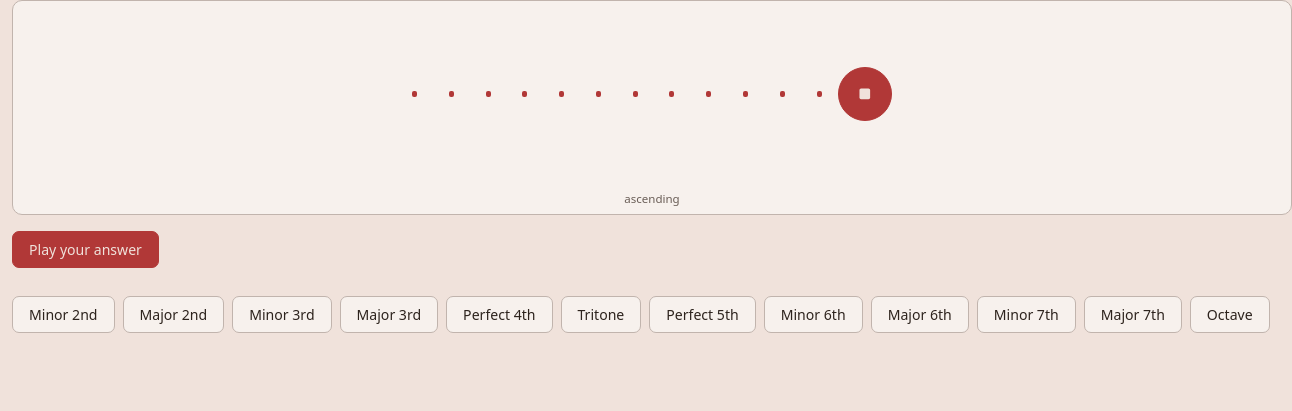
Test case: answering by playing › says it heard three notes rather than that it heard fewer than two
Click the button "Play your answer" at (85, 250), box [12,231,159,268]
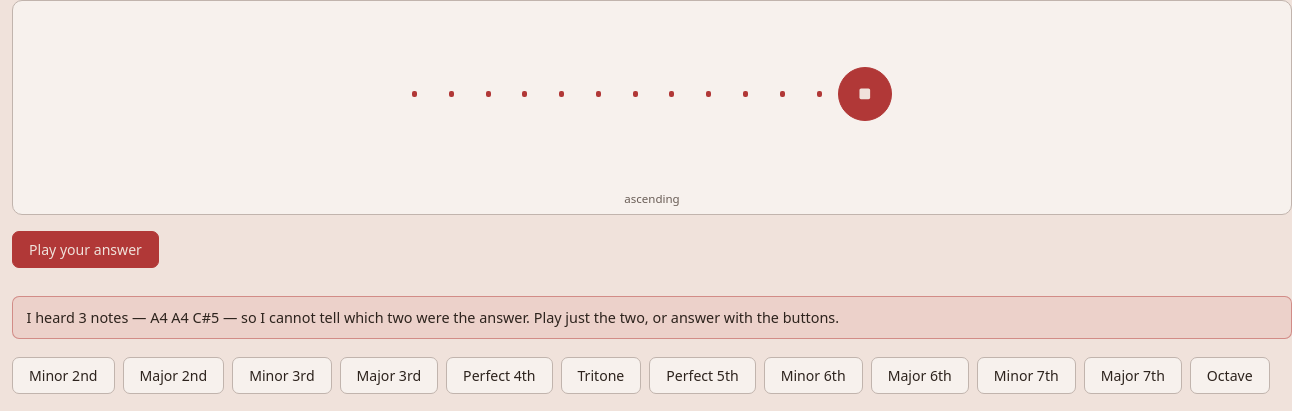
Result: the text "3 notes" is shown at [27,308,839,327]
